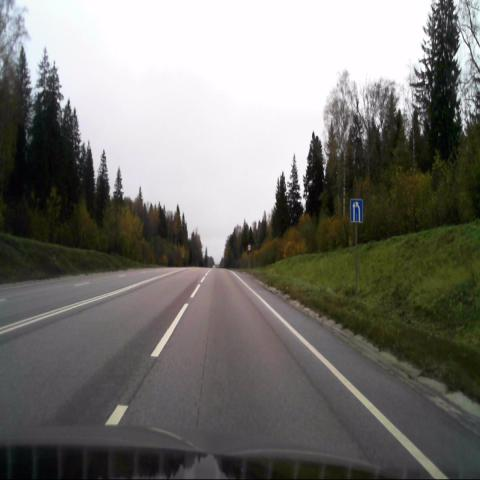5_15_5: (350, 199, 363, 223)
